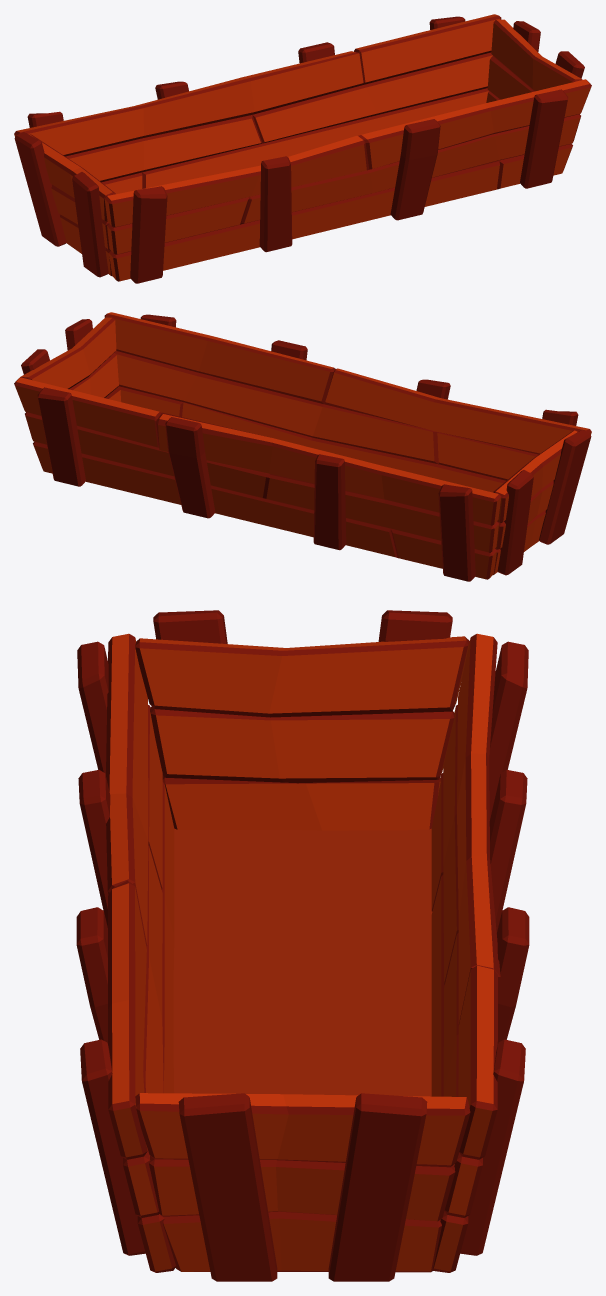
File: item12.glb
3 renders of one model, top to bottom at view 1: azimuth 30°, elevation 25°; view 2: azimuth 150°, elevation 25°; view 3: azimuth 270°, elevation 25°, orthographic. The views are drawn at different scales.
Visible parts, largest first — view 1: Item12; view 2: Item12; view 3: Item12.
Boxes of the visible parts, x1,y1,x2,y2 form: Item12: (14, 14, 591, 283); Item12: (14, 312, 591, 581); Item12: (76, 610, 529, 1281).
Size of what is drawn, in the model's own units: 1.35 by 0.2668 by 0.5256.
Materials: 1 (1 with a texture image).
